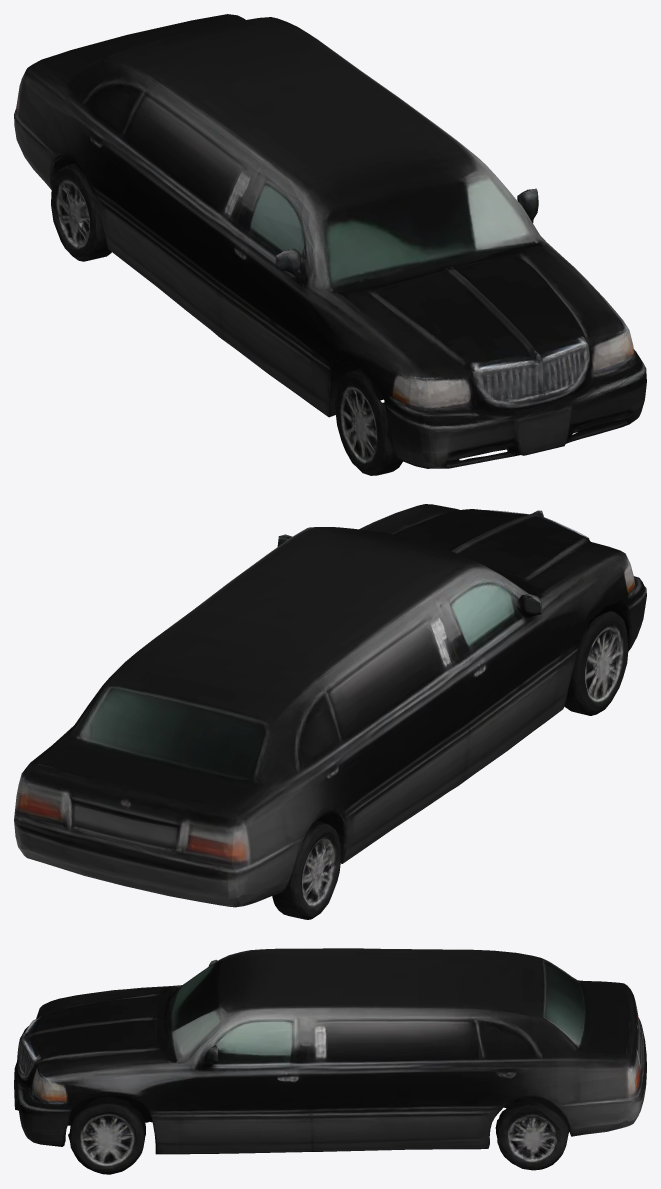
Rendered from 00dbd02b-db37-442c-924b-327899e5b05a.glb.
3 renders of one model, top to bottom at view 1: azimuth 30°, elevation 25°; view 2: azimuth 150°, elevation 25°; view 3: azimuth 270°, elevation 25°, orthographic. The views are drawn at different scales.
Visible parts, largest first — view 1: geometry_0; view 2: geometry_0; view 3: geometry_0.
Part boxes in pixels (<box>): geometry_0: <box>14,14,646,475</box>; geometry_0: <box>14,504,646,919</box>; geometry_0: <box>14,948,646,1174</box>.
Bounding box in the file's own units: 0.3553 × 0.273 × 0.9966.
1 material, 1 textured.
